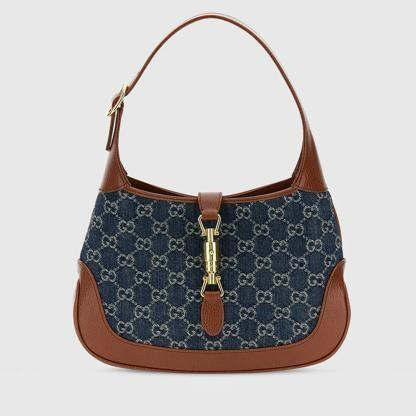not trash: (74, 14, 352, 375)
